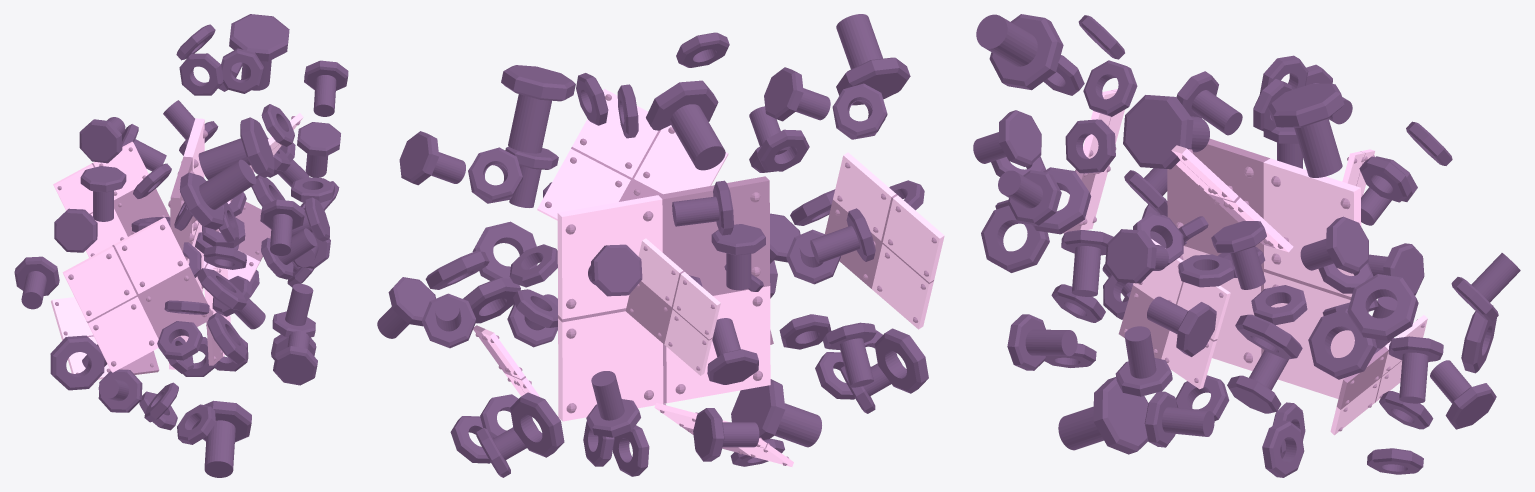
File: ScrapMetal.fbx
The picture shows the model from 3 angles, left to right: view 1: azimuth 30°, elevation 25°; view 2: azimuth 150°, elevation 25°; view 3: azimuth 270°, elevation 25°; orthographic projection. The views are drawn at different scales.
Parts seen in each view (by area): view 1: ScrapMetal; view 2: ScrapMetal; view 3: ScrapMetal.
Part boxes in pixels (x1,y1,x2,y2): ScrapMetal: (14, 14, 348, 477); ScrapMetal: (377, 14, 944, 477); ScrapMetal: (973, 14, 1520, 477).
Bounding box in the file's own units: 452 × 412 × 464.
